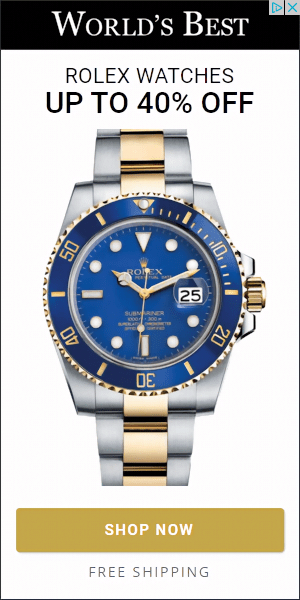fake_button: (5, 506, 294, 558), (267, 2, 300, 32)
